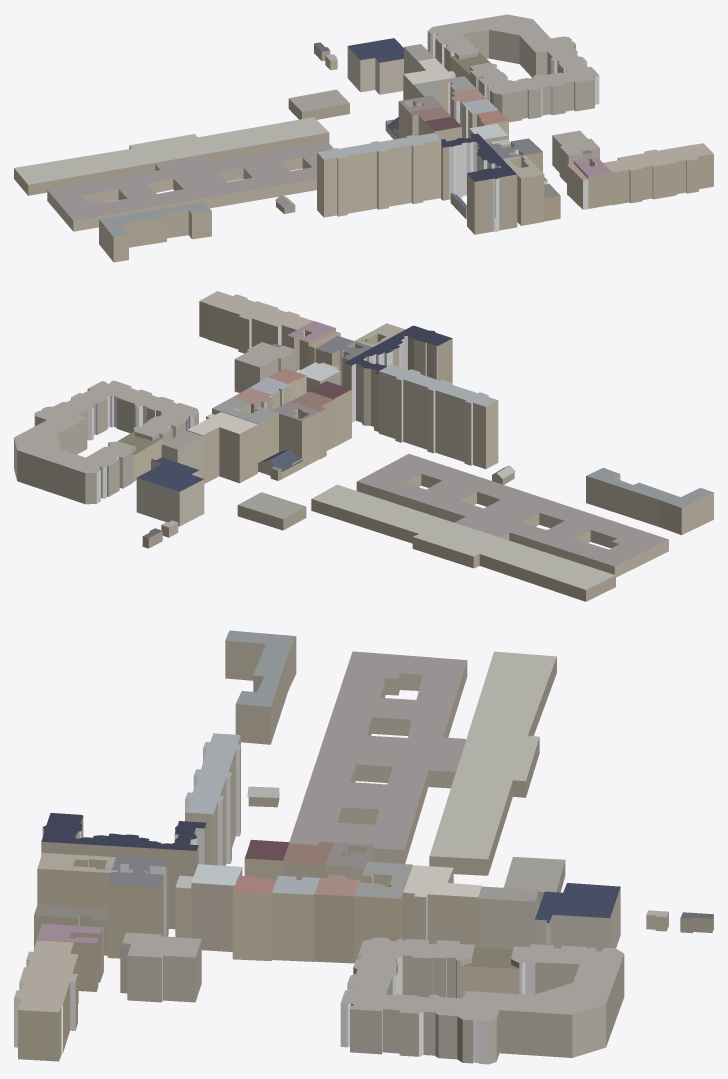
The picture shows the model from 3 angles, top to bottom: view 1: azimuth 30°, elevation 25°; view 2: azimuth 150°, elevation 25°; view 3: azimuth 270°, elevation 25°; orthographic projection. The views are drawn at different scales.
Visible parts, largest first — view 1: tuile; view 2: tuile; view 3: tuile.
Part boxes in pixels (x1=…): tuile: x1=14, y1=14, x2=713, y2=262; tuile: x1=14, y1=291, x2=713, y2=601; tuile: x1=14, y1=630, x2=713, y2=1064.
Bounding box in the file's own units: 288 × 30.46 × 215.
